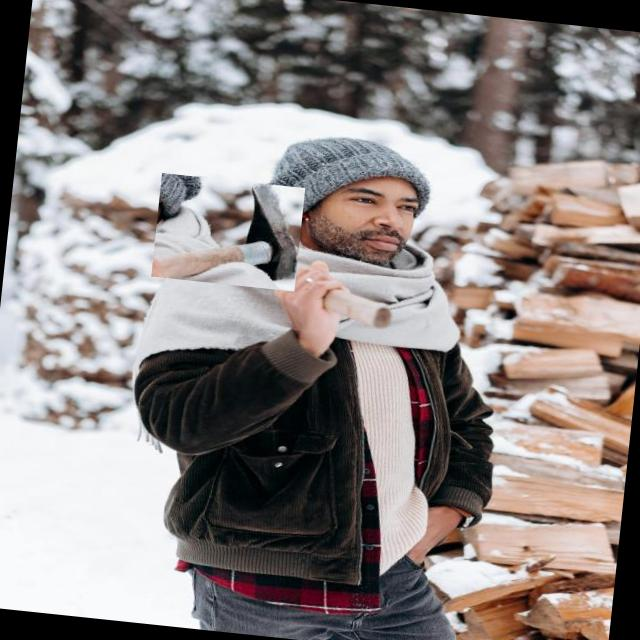Axe: (152, 184, 296, 281), (323, 288, 396, 329)
